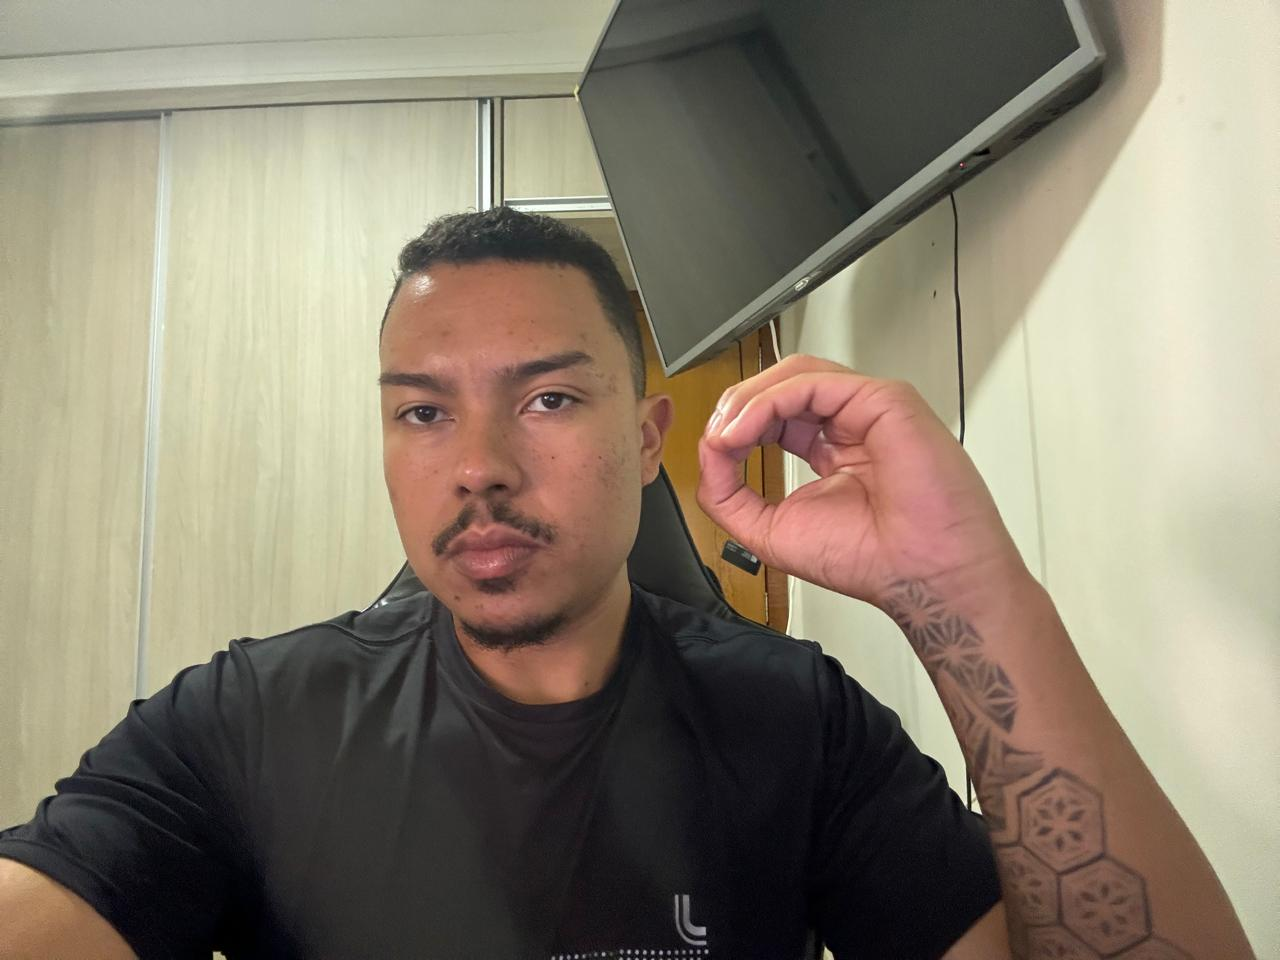o: (681, 343, 1006, 618)
